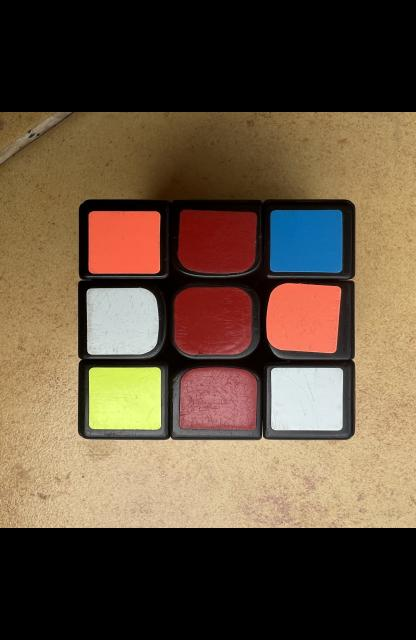Blue: (269, 210, 342, 272)
Orange: (266, 283, 340, 354), (87, 211, 159, 273)
Red: (173, 288, 250, 355), (177, 210, 256, 273), (178, 367, 257, 430)
White: (86, 288, 158, 355), (270, 368, 342, 430)
Yellow: (88, 368, 160, 429)
